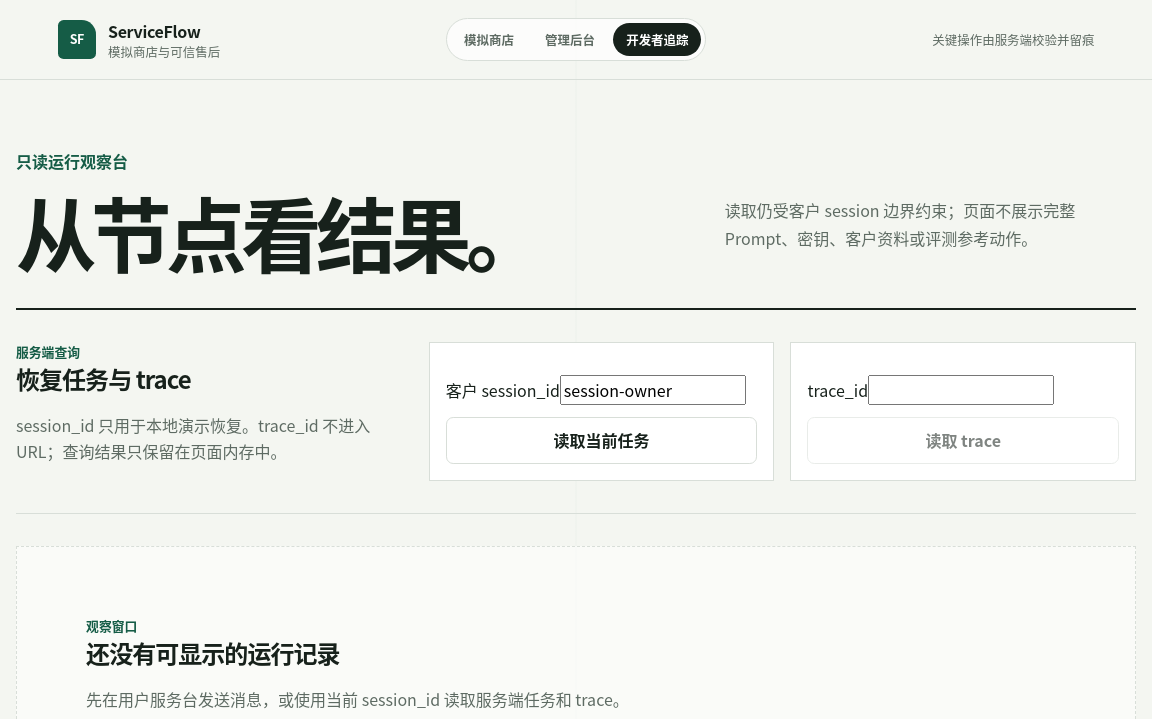
Scenario: DeveloperPage › reads current task and a redacted persisted trace with empty token usage
Click the button "读取当前任务": click(602, 440) [446,417,757,464]
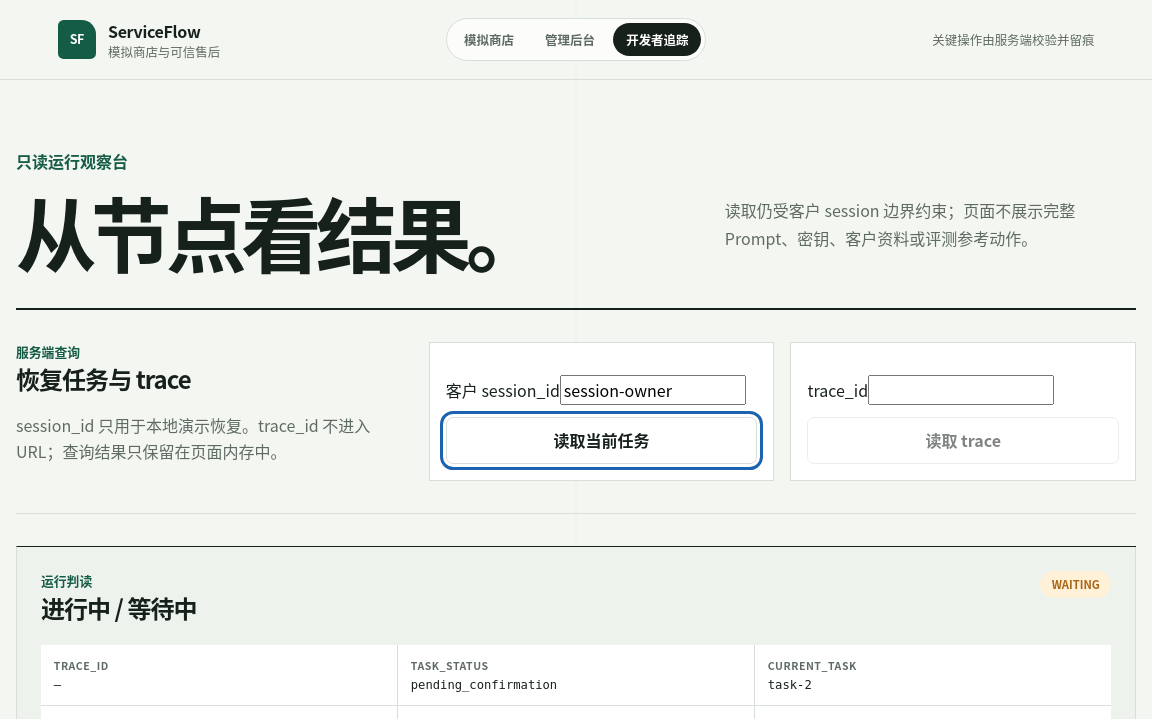
Result: the text "task-2" is shown at [768,678,812,692]
In the field labelled "trace_id": (961, 390) [868,375,1054,405], type "trace-1"
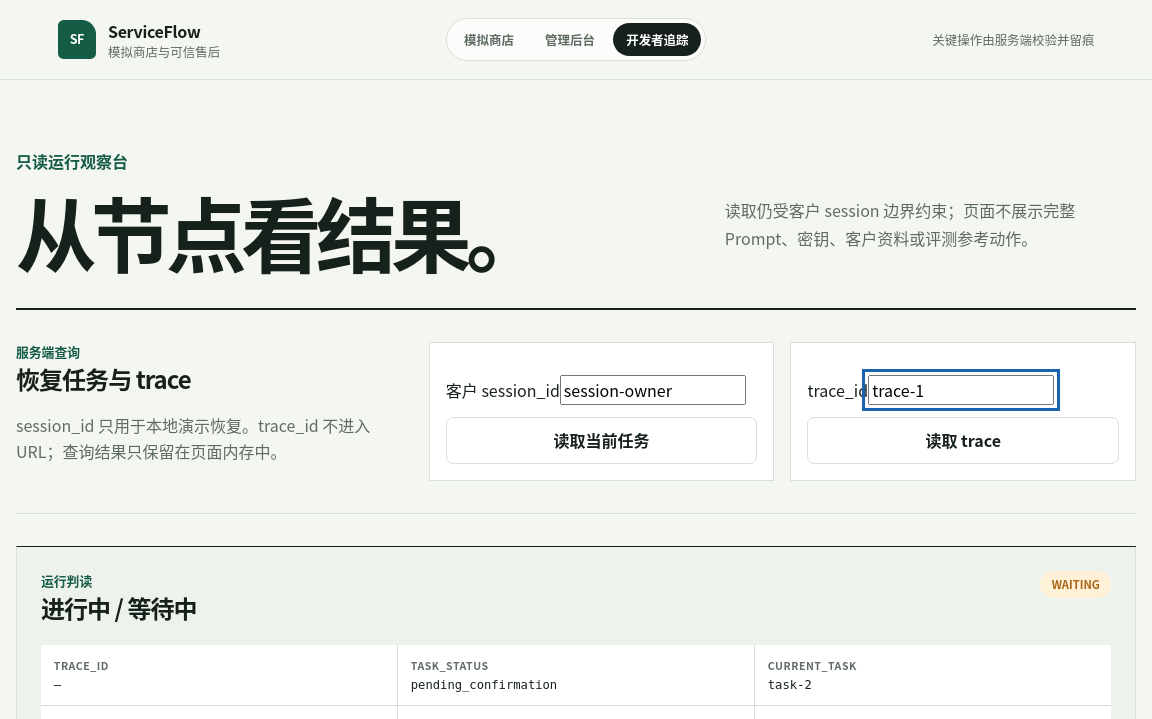
Click the button "读取 trace": click(963, 440) [807,417,1119,464]
(page scrolled)
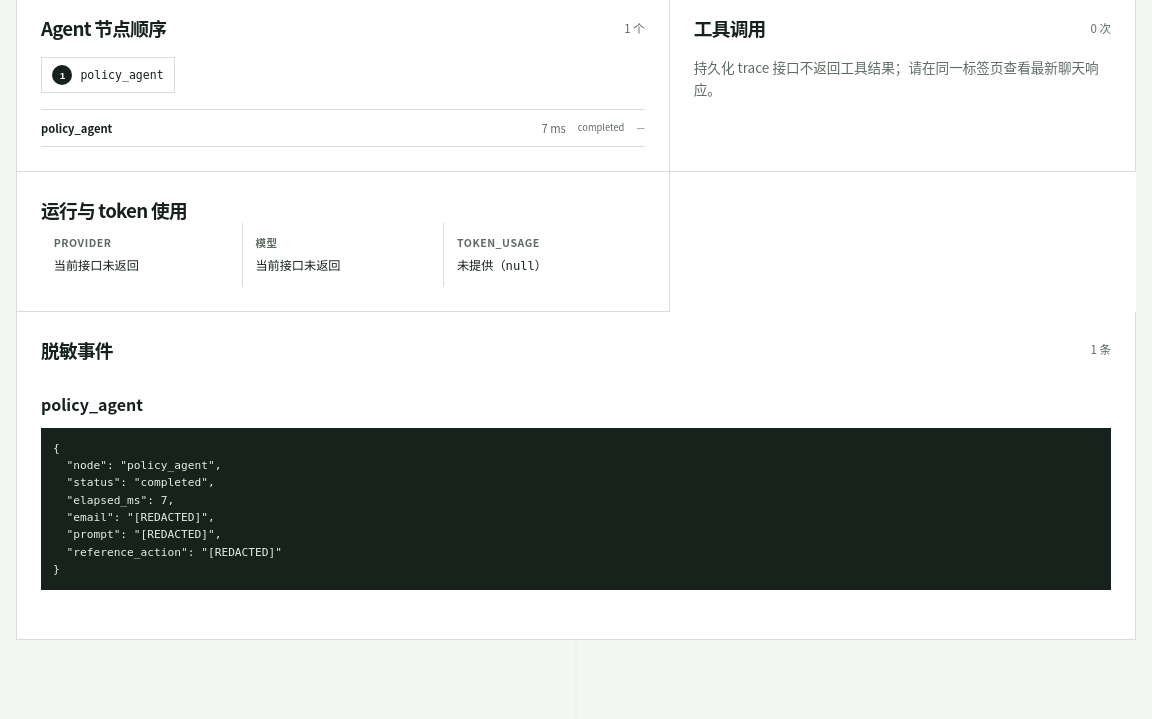
Result: the text "未提供（null）" is shown at [457,259,547,273]
Result: the text "[REDACTED" is shown at [53,442,282,576]
